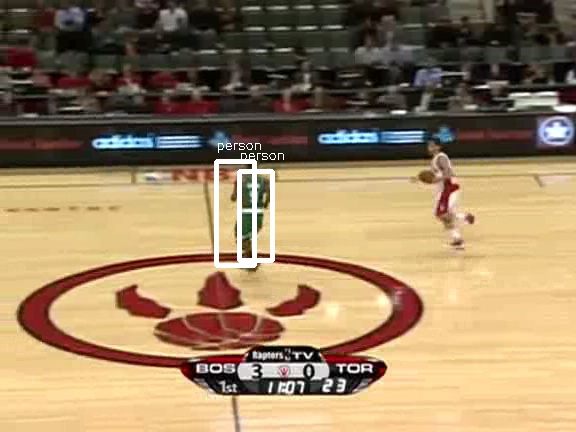person: (238, 166, 272, 247), (237, 166, 271, 247), (239, 166, 273, 247), (238, 165, 272, 246), (238, 167, 272, 248)
target_negative: (40, 25, 366, 322), (144, 189, 560, 383), (95, 101, 465, 243), (397, 53, 479, 221), (52, 382, 479, 402), (224, 371, 255, 389)
